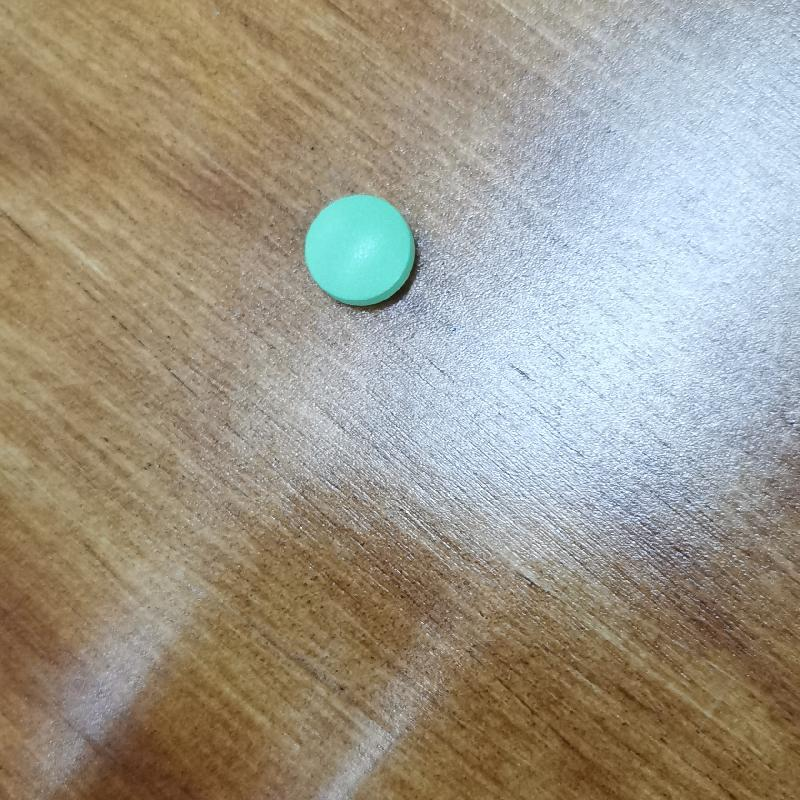pills: (296, 184, 440, 318)
